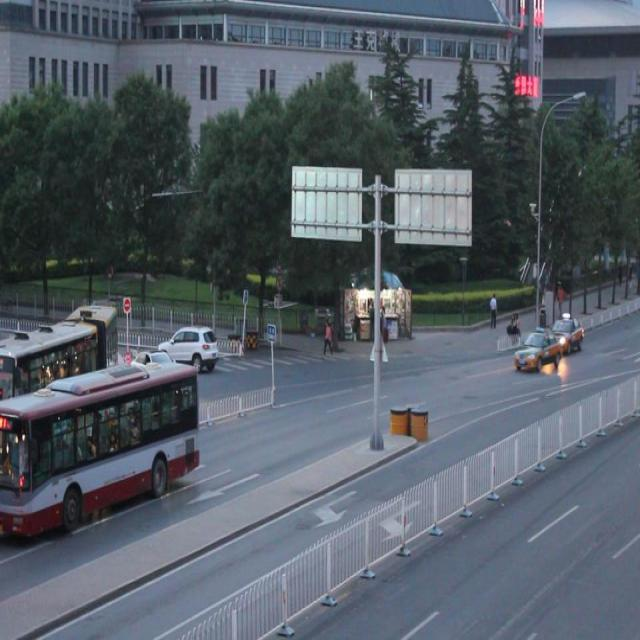car: (158, 324, 219, 373), (512, 324, 562, 378), (130, 346, 178, 390)
van: (0, 361, 196, 540), (0, 304, 119, 420)
